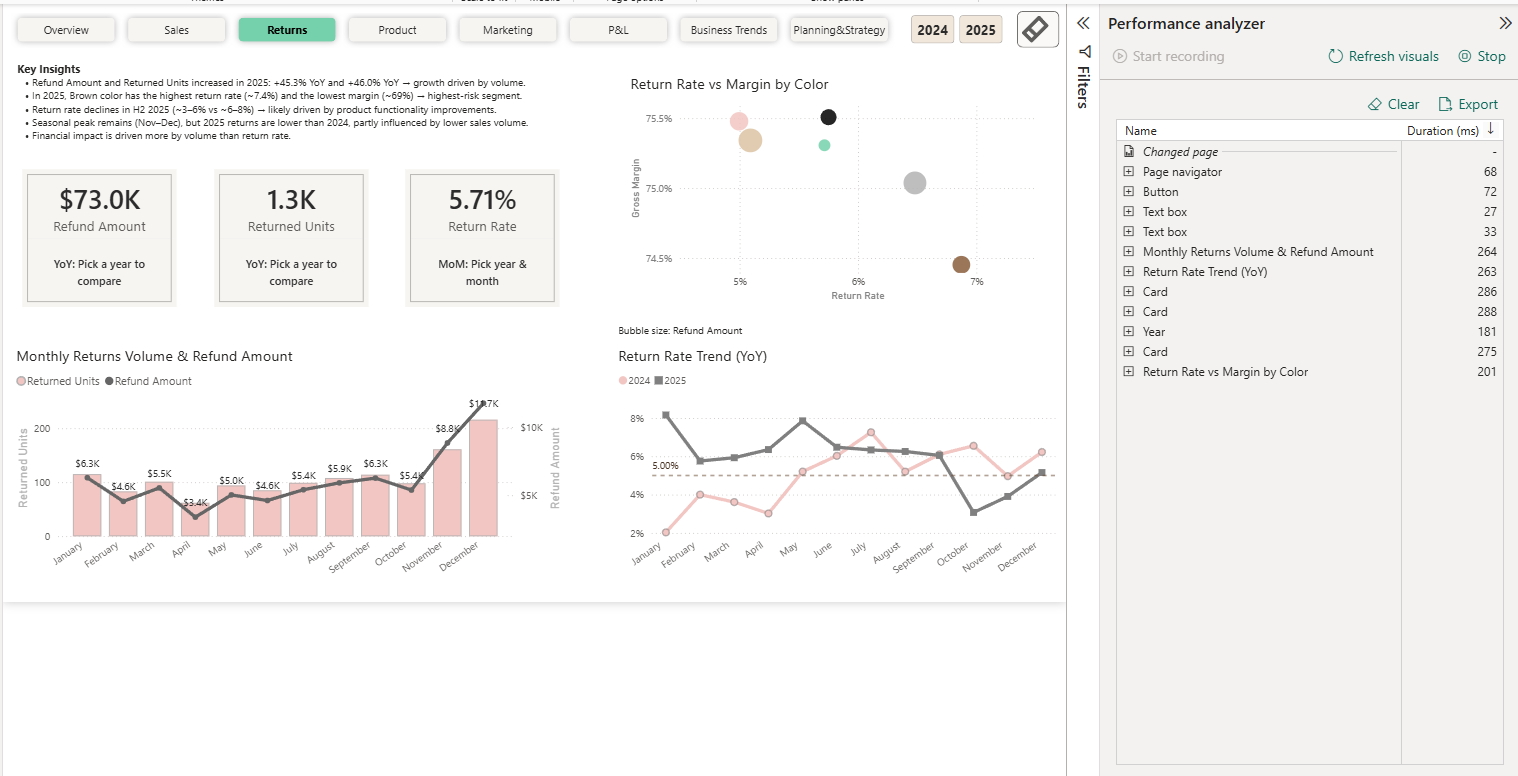

Layout of this report page (visuals, bound fields, positions):
{"tool":"powerbi","page":{"name":"Returns","canvas":[1280,720],"ordinal":2},"visuals":[{"type":"actionButton","box":[1221.1,8.8,51,44.1],"z":0},{"type":"advancedSlicerVisual","fields":{"Values":["dim_date.year_number"]},"box":[1088.5,8.2,120,44.9],"z":1000},{"type":"pageNavigator","box":[10.1,8.2,1064.7,45.8],"z":2000},{"type":"scatterChart","title":"Return Rate vs Margin by Color","fields":{"X":["_measures.Return Rate %"],"Y":["_measures.Gross Margin %"],"Series":["dim_product.color"],"Size":["_measures.Total Refund Amount"]},"box":[735.5,64.3,536.8,314],"z":3000},{"type":"lineChart","title":"Return Rate Trend (YoY)","fields":{"Y":["_measures.Return Rate %"],"Category":["dim_date.month_name"],"Series":["dim_date.year_number"]},"box":[735.5,410,536.8,298.6],"z":4000},{"type":"lineClusteredColumnComboChart","title":"Monthly Returns Volume & Refund Amount","fields":{"Category":["dim_date.month_name"],"Y":["_measures.Total Returned Units"],"Y2":["_measures.Total Refund Amount"]},"box":[10.6,410,665.4,298.6],"z":5000},{"type":"textbox","box":[11.5,64.3,677,123.9],"z":6000},{"type":"cardVisual","fields":{"Data":["_measures.Total Refund Amount"]},"box":[18.2,194,196.8,176.7],"z":7000},{"type":"cardVisual","fields":{"Data":["_measures.Total Returned Units"]},"box":[248.7,194,196.8,176.7],"z":8000},{"type":"cardVisual","fields":{"Data":["_measures.Return Rate %"]},"box":[479.2,194,196.8,176.7],"z":9000},{"type":"textbox","box":[735.5,378.3,223.7,31.7],"z":10000}]}

Visuals, with their boxes on the page's 1280x720 design canvas (x1, y1, x2, y2). These are canvas units, not pixel positions in the 1518x776 screenshot, which may show the page scaled, cropped or inside an application window:
actionButton: left=1221, top=9, right=1272, bottom=53
advancedSlicerVisual - dim_date.year_number: left=1088, top=8, right=1208, bottom=53
pageNavigator: left=10, top=8, right=1075, bottom=54
"Return Rate vs Margin by Color" scatterChart: left=736, top=64, right=1272, bottom=378
"Return Rate Trend (YoY)" lineChart: left=736, top=410, right=1272, bottom=709
"Monthly Returns Volume & Refund Amount" lineClusteredColumnComboChart: left=11, top=410, right=676, bottom=709
textbox: left=12, top=64, right=688, bottom=188
cardVisual - _measures.Total Refund Amount: left=18, top=194, right=215, bottom=371
cardVisual - _measures.Total Returned Units: left=249, top=194, right=446, bottom=371
cardVisual - _measures.Return Rate %: left=479, top=194, right=676, bottom=371
textbox: left=736, top=378, right=959, bottom=410
